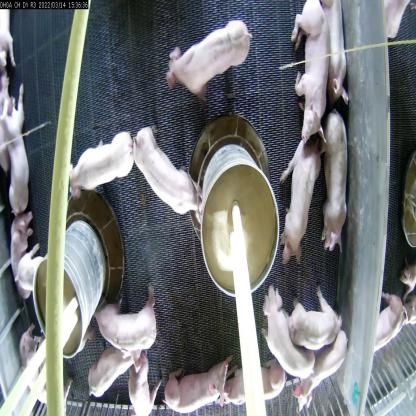Pig: (164, 17, 252, 96), (290, 0, 331, 147), (280, 136, 324, 266), (133, 134, 200, 217), (317, 102, 352, 254), (261, 284, 312, 386), (68, 132, 140, 200), (165, 350, 237, 415), (95, 290, 164, 354), (296, 333, 349, 415), (287, 288, 341, 357), (2, 96, 32, 218), (3, 206, 38, 301), (226, 359, 286, 411), (85, 342, 133, 397), (132, 344, 160, 415), (20, 250, 50, 298)
